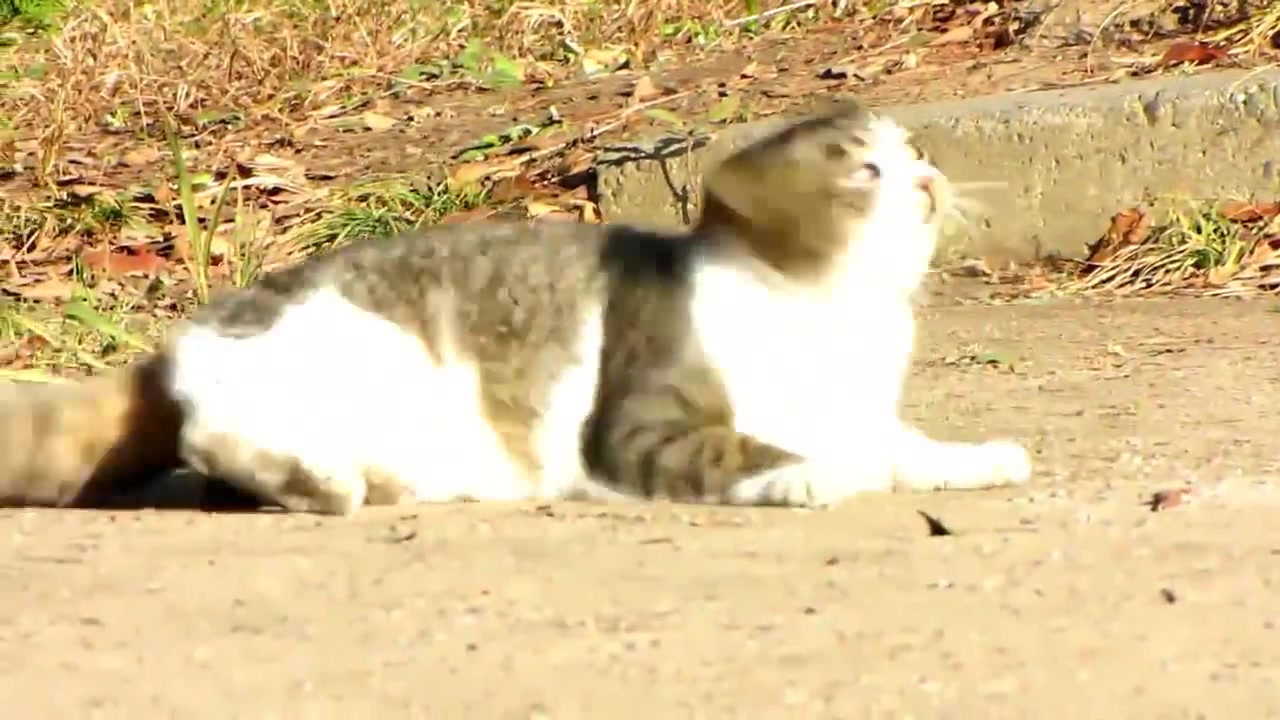cat: (1, 100, 1037, 511)
